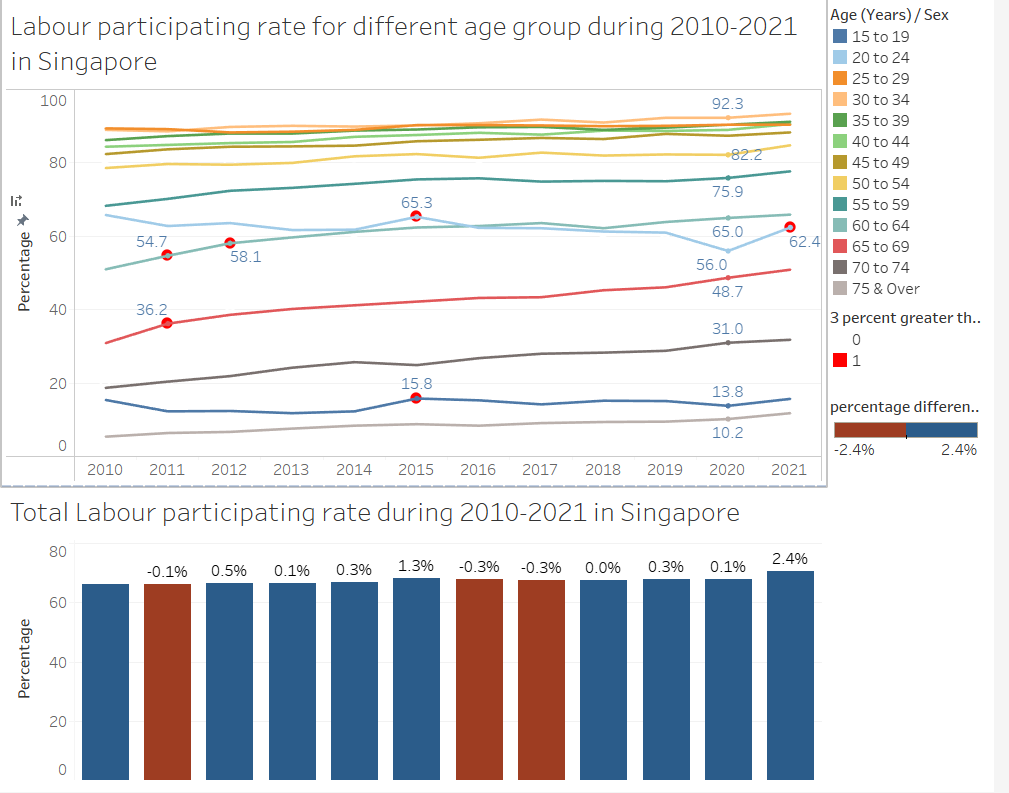

Layout of this report page (visuals, bound fields, positions):
{"tool":"tableau","page":{"name":"仪表板 2","canvas":[1000,800],"ordinal":0},"visuals":[{"type":"worksheet","title":"工作表 1","mark":"Automatic","rows":["转置字段值","转置字段值"],"cols":["Calculation_1475210355353161736"],"box":[8,8,824,486]},{"type":"legend","title":"工作表 1","param":"[federated.1z0z4z61ravsvc1eakrx91tar6gu].[none:Age (Years) / Sex:nk]","box":[832,8,160,303]},{"type":"legend","title":"工作表 1","param":"[federated.1z0z4z61ravsvc1eakrx91tar6gu].[usr:Calculation_1475210355345399814:ok","box":[832,311,160,89]},{"type":"legend","title":"工作表 2","param":"[federated.1z0z4z61ravsvc1eakrx91tar6gu].[usr:计算 2:qk]","box":[832,400,160,73]},{"type":"worksheet","title":"工作表 2","mark":"Bar","rows":["转置字段值"],"cols":["Calculation_1475210355353161736"],"box":[8,494,824,298]}]}

Visuals, with their boxes in screenshot pixels (x1, y1, x2, y2), scaled from the page's 1000x800 canvas onto the 1009x793 screenshot:
"工作表 1" worksheet: [left=8, top=8, right=839, bottom=490]
"工作表 1" legend: [left=839, top=8, right=1001, bottom=308]
"工作表 1" legend: [left=839, top=308, right=1001, bottom=396]
"工作表 2" legend: [left=839, top=396, right=1001, bottom=469]
"工作表 2" worksheet (Bar marks): [left=8, top=490, right=839, bottom=785]
